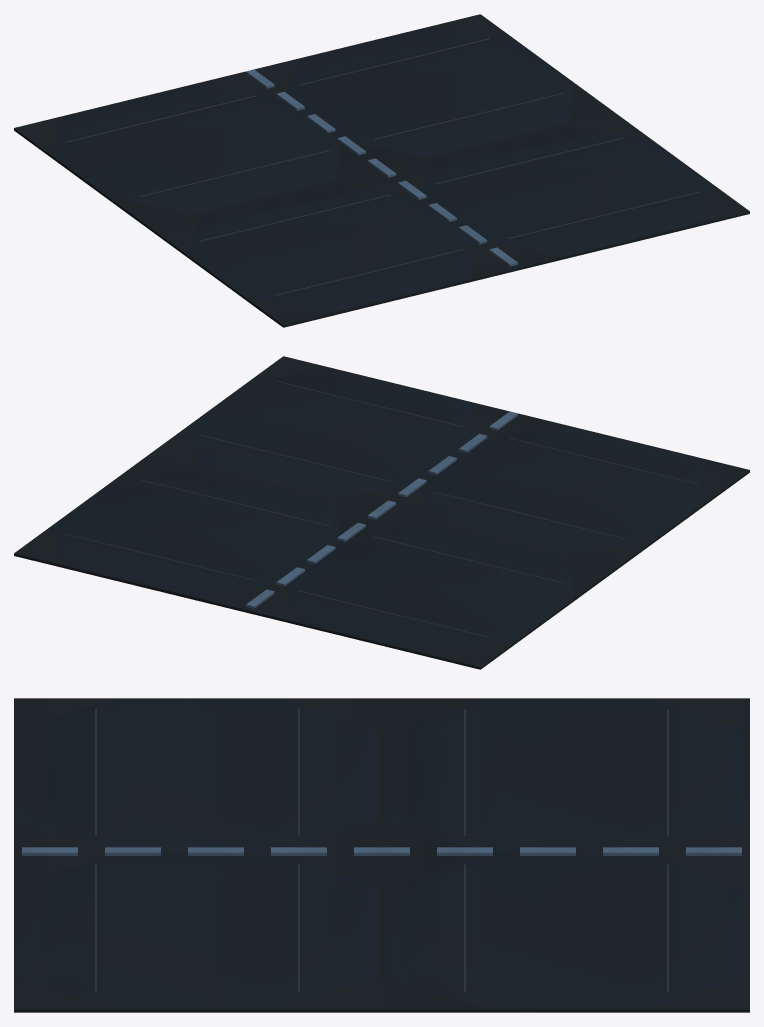
Rendered from Facility_Deck.fbx.
3 renders of one model, top to bottom at view 1: azimuth 30°, elevation 25°; view 2: azimuth 150°, elevation 25°; view 3: azimuth 270°, elevation 25°, orthographic. The views are drawn at different scales.
Visible parts, largest first — view 1: Facility_Deck; view 2: Facility_Deck; view 3: Facility_Deck.
Part boxes in pixels (x1=…): Facility_Deck: x1=14, y1=14, x2=749, y2=327; Facility_Deck: x1=14, y1=356, x2=749, y2=669; Facility_Deck: x1=14, y1=698, x2=749, y2=1012.
Bounding box in the file's own units: 7.98 × 0.0895 × 7.98.
